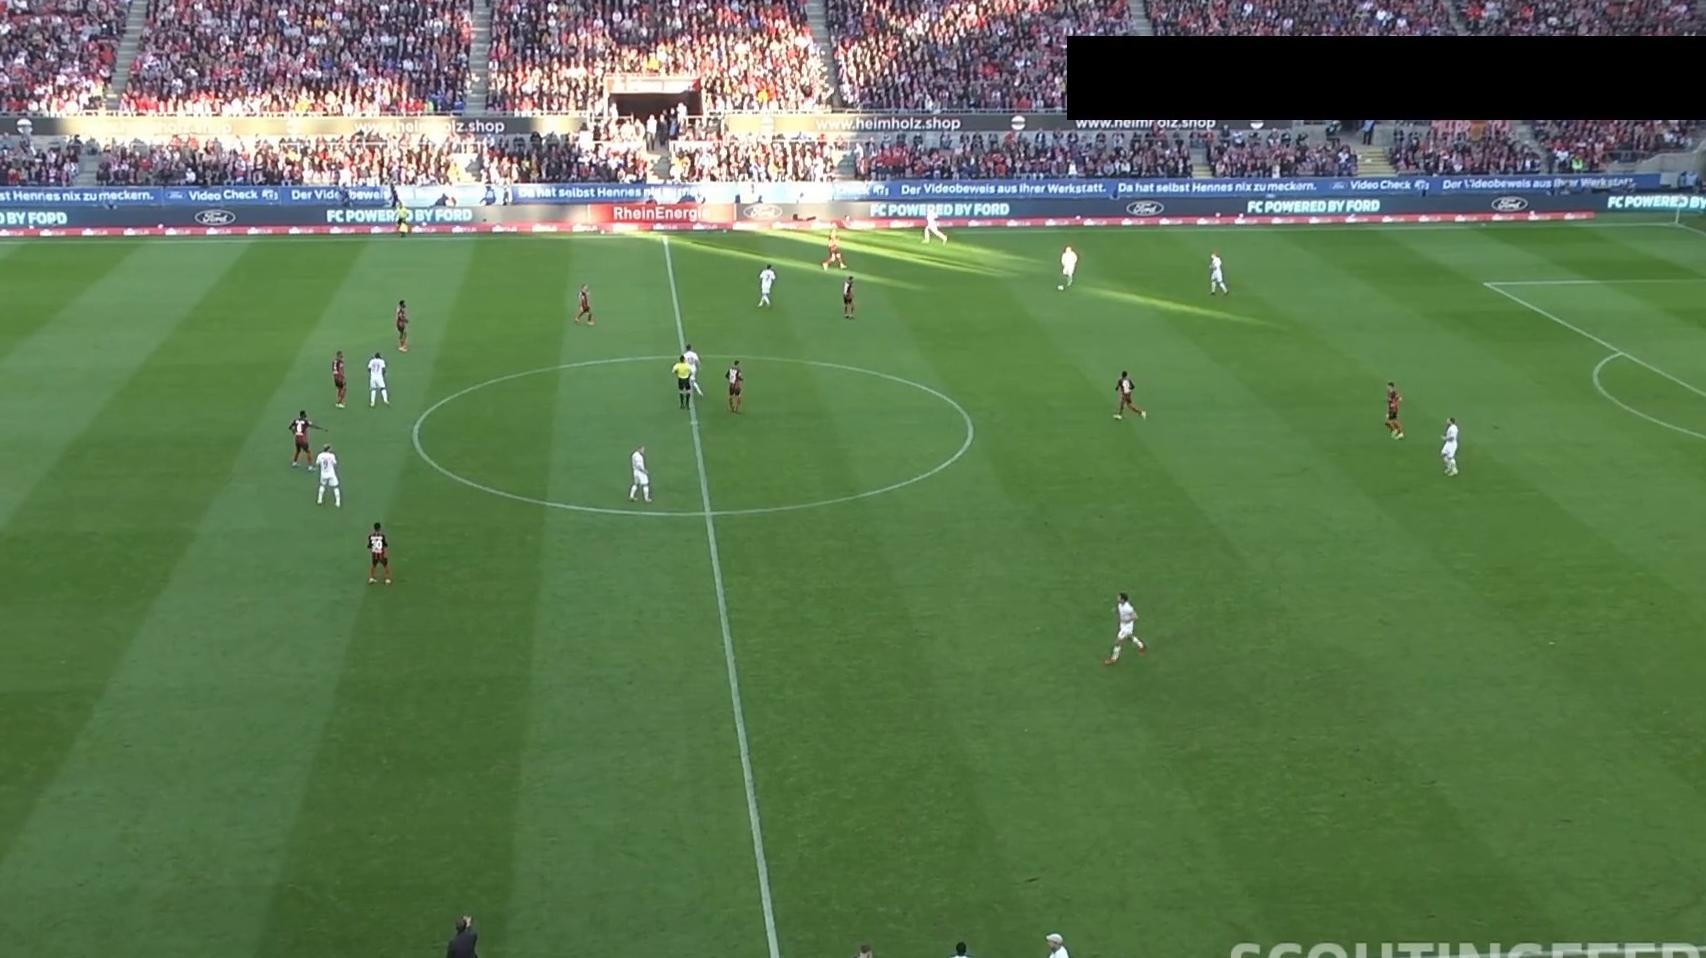ball: (1057, 283, 1065, 293)
